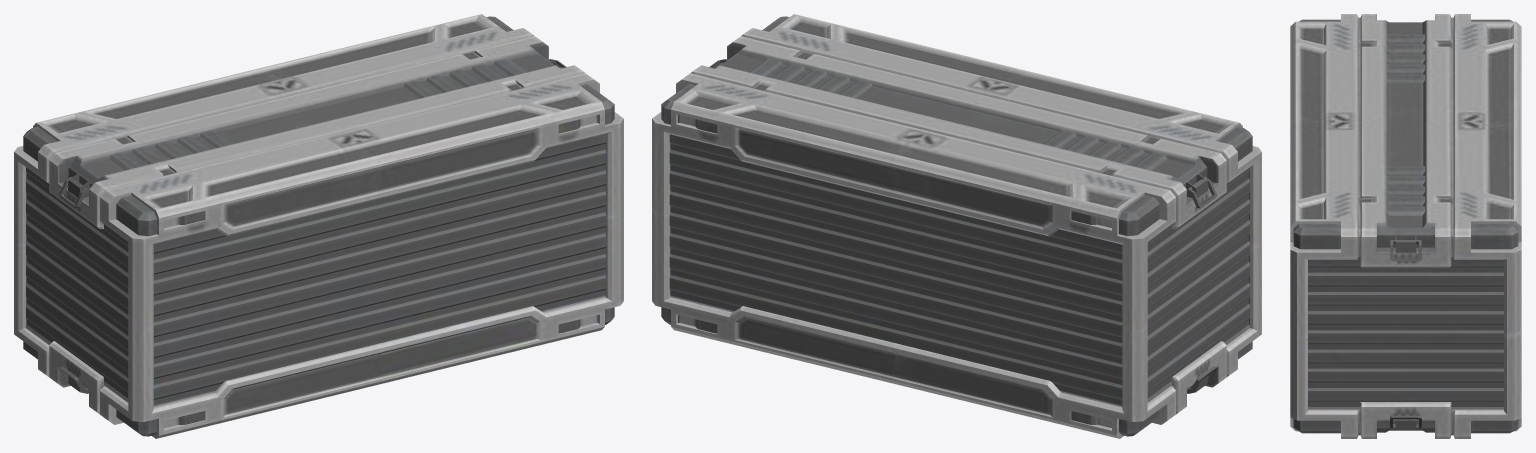
3 renders of one model, left to right at view 1: azimuth 30°, elevation 25°; view 2: azimuth 150°, elevation 25°; view 3: azimuth 270°, elevation 25°, orthographic. The views are drawn at different scales.
Parts seen in each view (by area): view 1: Prop_Crate_Large; view 2: Prop_Crate_Large; view 3: Prop_Crate_Large.
Boxes of the visible parts, x1,y1,x2,y2 form: Prop_Crate_Large: (14, 14, 623, 438); Prop_Crate_Large: (652, 14, 1261, 438); Prop_Crate_Large: (1290, 14, 1521, 438).
Bounding box in the file's own units: 2.43 × 1.05 × 1.05.
1 material, 1 textured.
